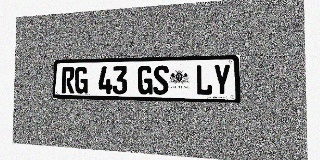3: (113, 66, 127, 94)
4: (98, 66, 112, 94)
G: (137, 65, 153, 95), (75, 67, 88, 94)
L: (195, 64, 213, 96)
R: (62, 67, 75, 94)
S: (153, 65, 169, 95)
Y: (213, 64, 231, 96)
